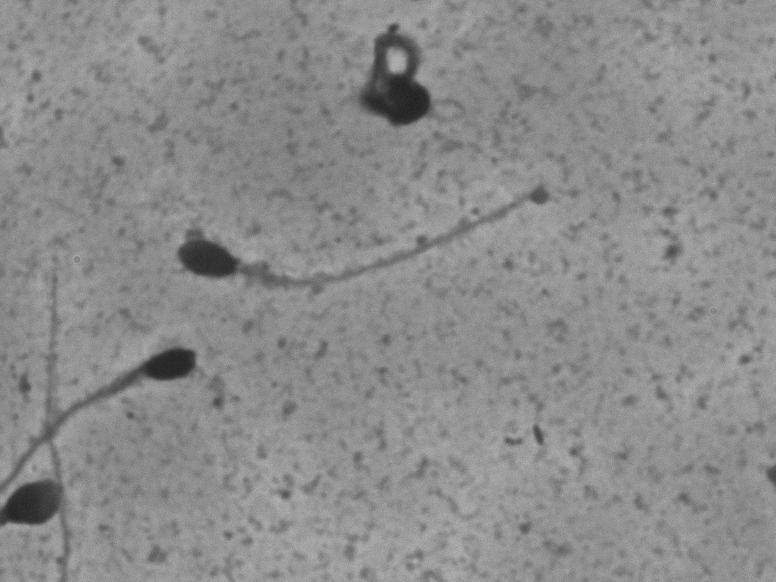Abnormal: (168, 123, 573, 333), (20, 314, 243, 454)
